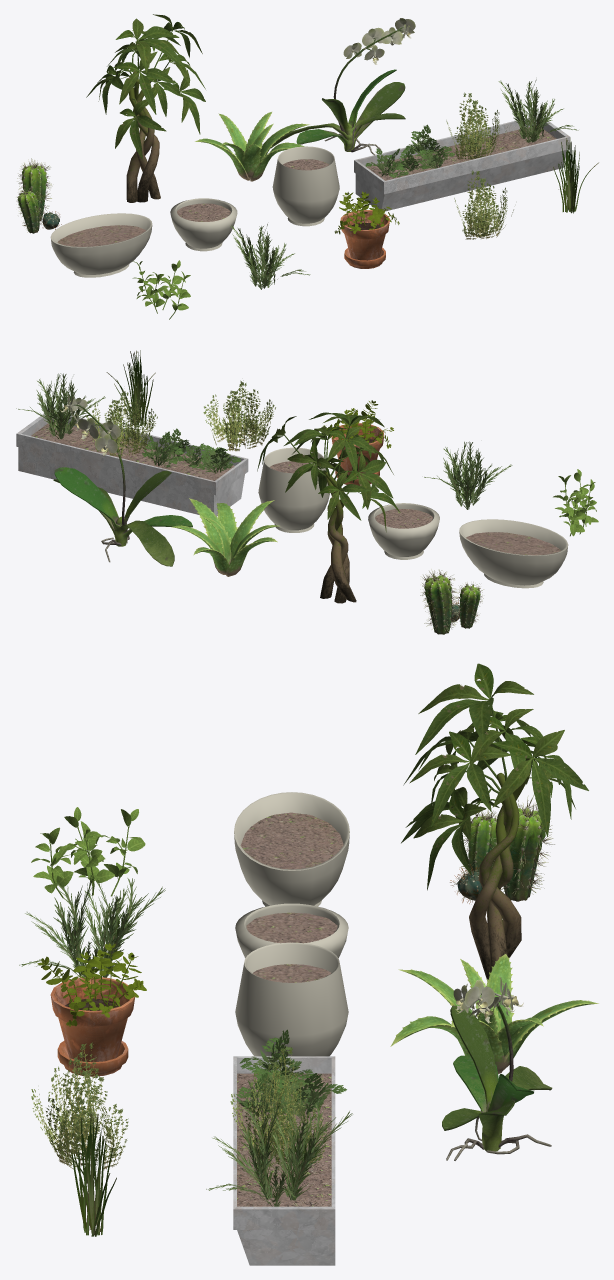
3 views of the same model, one above another, from view 1: azimuth 30°, elevation 25°; view 2: azimuth 150°, elevation 25°; view 3: azimuth 270°, elevation 25° (orthographic). The views are drawn at different scales.
Parts seen in each view (by area): view 1: Money_Tree_13, FlowerBox_A_4, Flowerbox_A_Plants_3, Orchid_A_14, Vase_B_1, Vase_A_0, Aloe_Vera_A_12, Pot_Plant_A_11, Flowerbox_A_Dirt_6, Cactus_A_15, Vase_C_2, Thyme_8 (+6 smaller); view 2: FlowerBox_A_4, Money_Tree_13, Flowerbox_A_Plants_3, Orchid_A_14, Vase_A_0, Vase_B_1, Aloe_Vera_A_12, Thyme_8, Cactus_A_15, Vase_C_2, Flowerbox_A_Dirt_6, Rosemary_9 (+6 smaller); view 3: Money_Tree_13, Flowerbox_A_Plants_3, Vase_B_1, Orchid_A_14, FlowerBox_A_4, Vase_A_0, Flowerbox_A_Dirt_6, Pot_Plant_A_11, Thyme_8, Aloe_Vera_A_12, Cactus_A_15, Rosemary_9 (+7 smaller).
Boxes of the visible parts, bbox=[...] form: Money_Tree_13: bbox=[86, 14, 205, 202]; FlowerBox_A_4: bbox=[354, 115, 569, 211]; Flowerbox_A_Plants_3: bbox=[365, 79, 578, 177]; Orchid_A_14: bbox=[271, 18, 415, 155]; Vase_B_1: bbox=[272, 146, 339, 226]; Vase_A_0: bbox=[50, 213, 152, 277]; Aloe_Vera_A_12: bbox=[195, 112, 309, 181]; Pot_Plant_A_11: bbox=[340, 210, 389, 268]; Flowerbox_A_Dirt_6: bbox=[366, 127, 556, 180]; Cactus_A_15: bbox=[16, 158, 61, 233]; Vase_C_2: bbox=[170, 198, 237, 251]; Thyme_8: bbox=[454, 170, 513, 239]; FlowerBox_A_4: bbox=[16, 410, 248, 516]; Money_Tree_13: bbox=[257, 412, 399, 603]; Flowerbox_A_Plants_3: bbox=[16, 373, 240, 473]; Orchid_A_14: bbox=[53, 395, 192, 566]; Vase_A_0: bbox=[459, 519, 568, 588]; Vase_B_1: bbox=[258, 447, 330, 532]; Aloe_Vera_A_12: bbox=[171, 498, 279, 576]; Thyme_8: bbox=[203, 380, 275, 451]; Cactus_A_15: bbox=[420, 569, 484, 634]; Vase_C_2: bbox=[368, 503, 439, 559]; Flowerbox_A_Dirt_6: bbox=[31, 422, 234, 480]; Rosemary_9: bbox=[424, 441, 512, 509]; Money_Tree_13: bbox=[401, 663, 588, 979]; Flowerbox_A_Plants_3: bbox=[206, 1029, 352, 1206]; Vase_B_1: bbox=[235, 942, 348, 1056]; Orchid_A_14: bbox=[442, 976, 552, 1160]; FlowerBox_A_4: bbox=[233, 1056, 335, 1265]; Vase_A_0: bbox=[234, 792, 349, 906]; Flowerbox_A_Dirt_6: bbox=[237, 1073, 331, 1206]; Pot_Plant_A_11: bbox=[50, 977, 134, 1076]; Thyme_8: bbox=[31, 1042, 128, 1169]; Aloe_Vera_A_12: bbox=[390, 954, 598, 1073]; Cactus_A_15: bbox=[450, 795, 554, 903]; Rosemary_9: bbox=[19, 875, 165, 977].
Bounding box in the file's own units: 2.51 × 0.8393 × 1.47.
9 materials, 8 textured.
